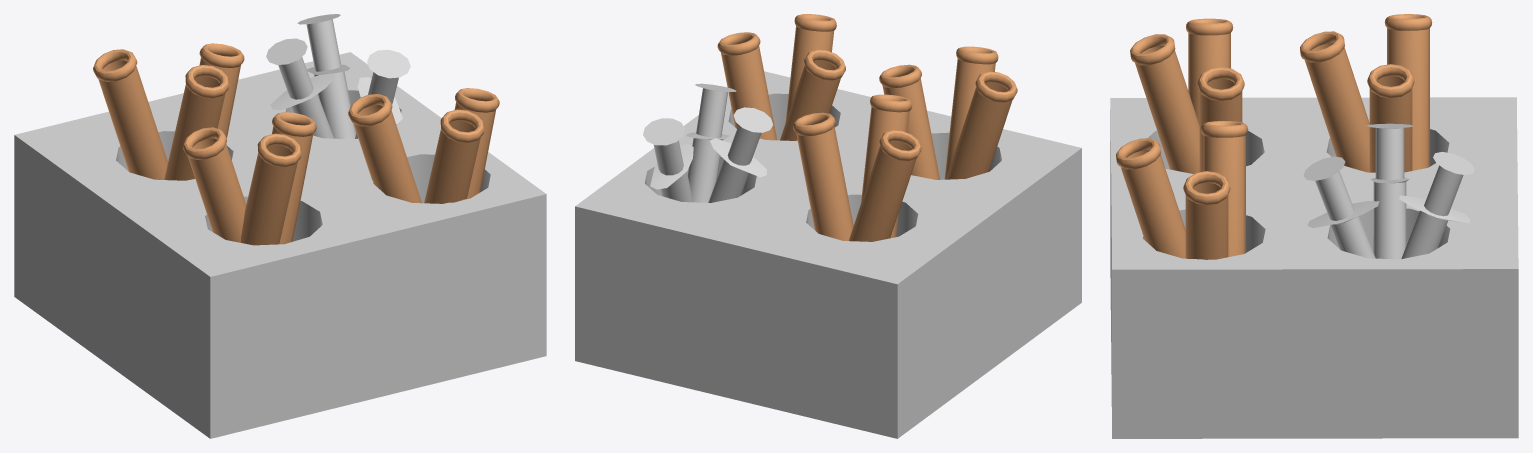
File: lab equipment 2.fbx
3 views of the same model, side by side, from view 1: azimuth 30°, elevation 25°; view 2: azimuth 150°, elevation 25°; view 3: azimuth 270°, elevation 25° (orthographic). The views are drawn at different scales.
Parts seen in each view (by area): view 1: Torus.055; view 2: Torus.055; view 3: Torus.055.
Part boxes in pixels (bbox=[...]): Torus.055: bbox=[14, 14, 546, 438]; Torus.055: bbox=[575, 14, 1081, 438]; Torus.055: bbox=[1110, 14, 1518, 438].
Bounding box in the file's own units: 0.1291 × 0.0979 × 0.1291.
